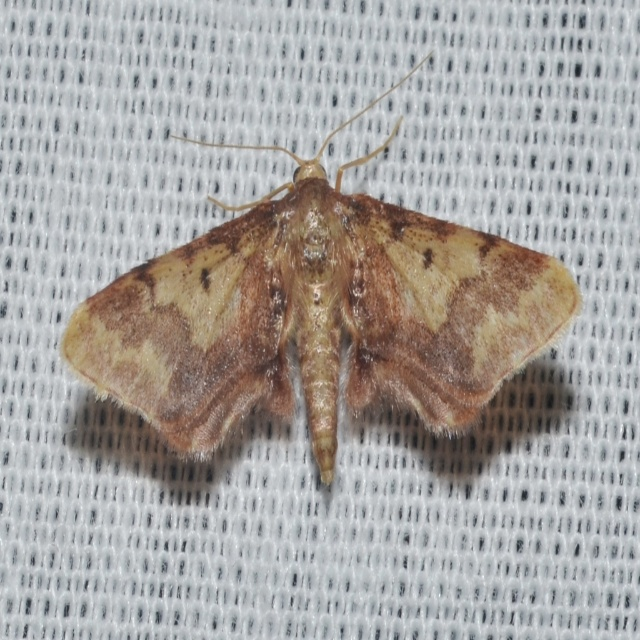Butterfly: (65, 65, 583, 491)
